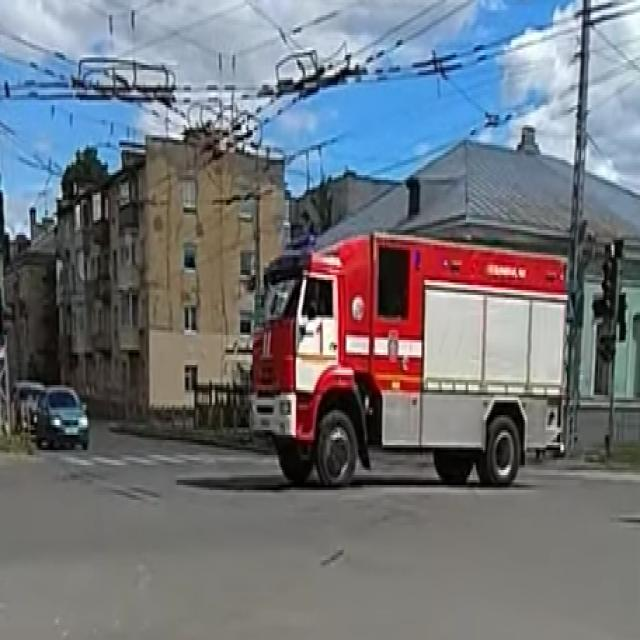fire fighting vehicle: (247, 226, 572, 491)
non emergency car: (35, 382, 89, 452)
